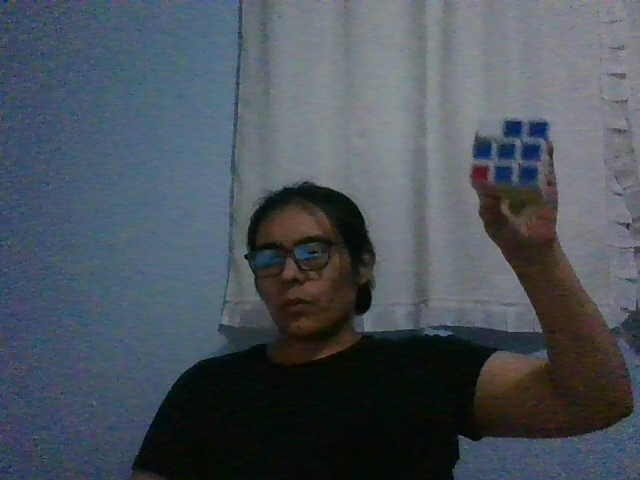rubik: (470, 118, 550, 203)
